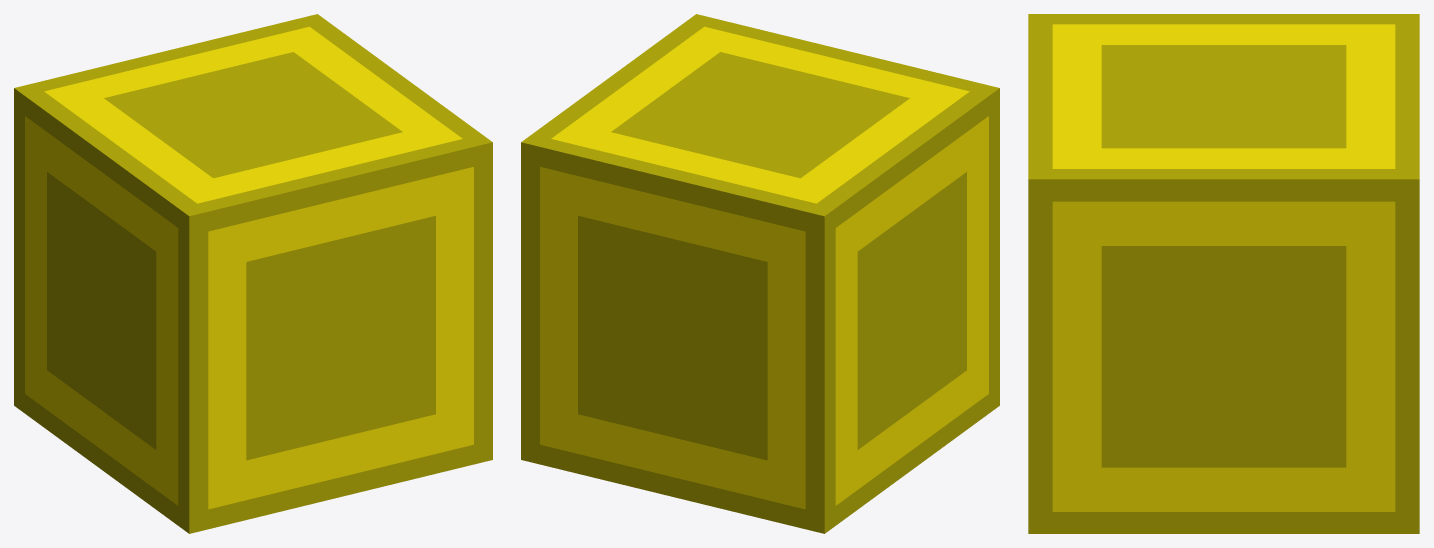
The model's file is Finish Tile FBX.fbx.
The picture shows the model from 3 angles, left to right: view 1: azimuth 30°, elevation 25°; view 2: azimuth 150°, elevation 25°; view 3: azimuth 270°, elevation 25°; orthographic projection. The views are drawn at different scales.
Visible parts, largest first — view 1: Finish cube; view 2: Finish cube; view 3: Finish cube.
Boxes of the visible parts, box(x1,y1,x2,y2) form: Finish cube: box(14, 14, 492, 533); Finish cube: box(521, 14, 999, 533); Finish cube: box(1028, 14, 1419, 533).
Size of the model in its own units: 100 by 100 by 100.
